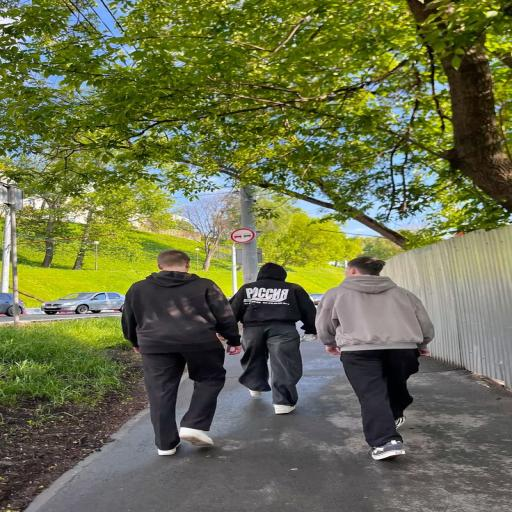bottle: (38, 282, 128, 324)
hole: (112, 244, 442, 468)
laptop: (317, 247, 437, 461)
shelf: (23, 319, 512, 512)
